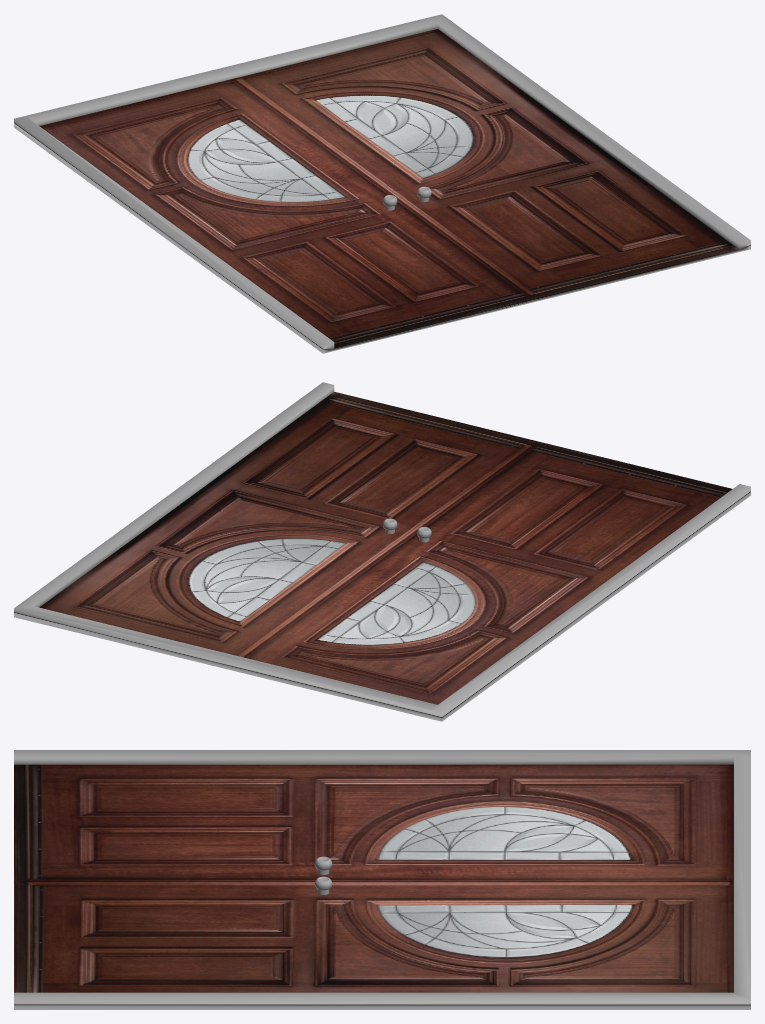
File: doubleDoorModel.fbx
3 renders of one model, top to bottom at view 1: azimuth 30°, elevation 25°; view 2: azimuth 150°, elevation 25°; view 3: azimuth 270°, elevation 25°, orthographic. The views are drawn at different scales.
Visible parts, largest first — view 1: pCube1; view 2: pCube1; view 3: pCube1.
Part boxes in pixels (x1,y1,x2,y2): pCube1: (14, 14, 750, 353); pCube1: (14, 382, 750, 721); pCube1: (14, 750, 750, 1009).
Size of the model in its own units: 200 by 6.1 by 250.
2 materials, 1 textured.
